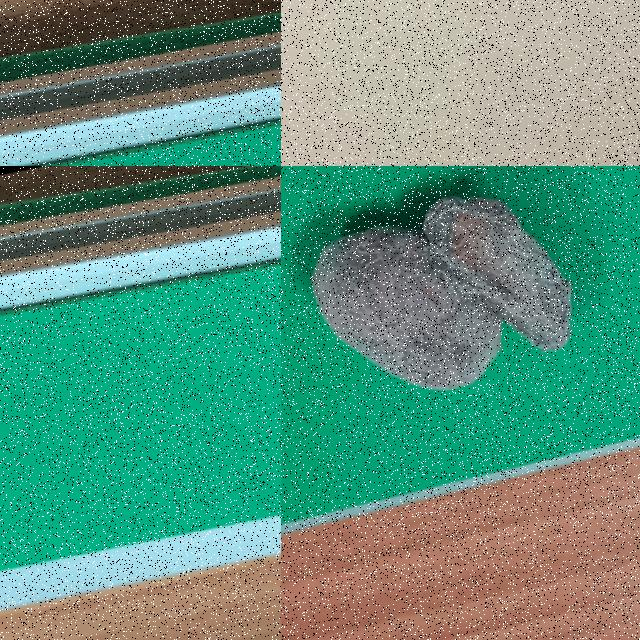Agglomerated_cocoabeans: (281, 166, 639, 449)
Flat_cocoabeans: (92, 166, 280, 484), (201, 35, 280, 165)
